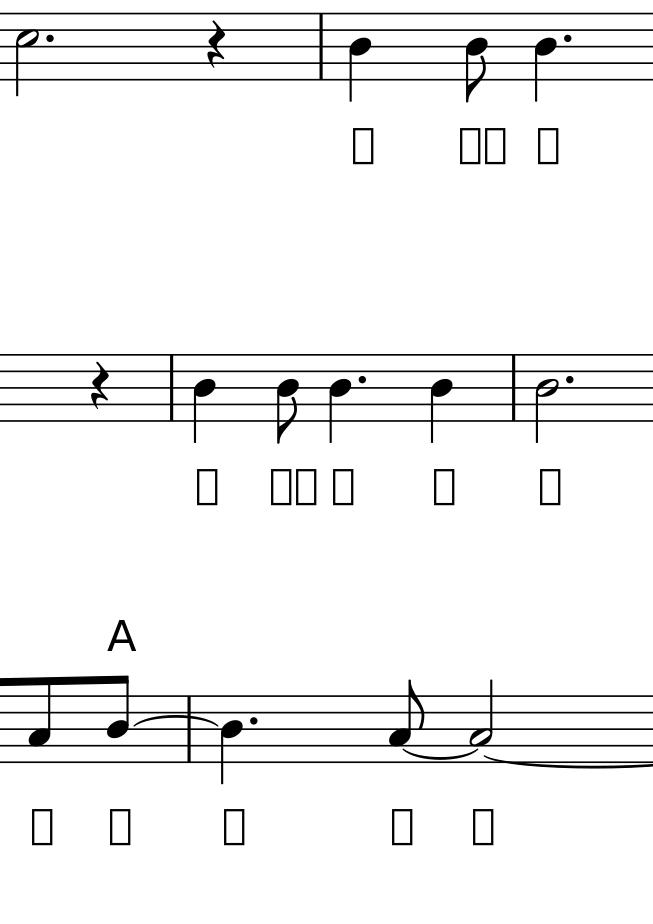2_3: (467, 678, 496, 767)
2_4: (534, 352, 561, 444)
2_5: (14, 9, 41, 99)
4_4: (346, 11, 373, 105), (532, 11, 559, 105), (430, 353, 454, 445), (328, 353, 352, 441), (192, 352, 214, 446)
8_3: (389, 676, 427, 765), (27, 675, 54, 767)
8_4: (275, 352, 303, 447), (464, 11, 490, 107), (105, 674, 132, 765), (218, 694, 244, 786)
Rests4: (90, 362, 113, 411), (207, 19, 226, 70)
Single_barline: (163, 351, 180, 423), (506, 352, 521, 424), (314, 11, 329, 81), (183, 693, 197, 767)
Slur: (134, 715, 219, 727), (401, 750, 480, 759)
dot: (559, 28, 578, 49), (244, 710, 261, 732), (354, 369, 371, 389), (561, 369, 577, 390), (563, 372, 578, 386), (562, 32, 576, 45), (245, 714, 260, 725), (42, 33, 55, 45), (355, 374, 369, 385)
